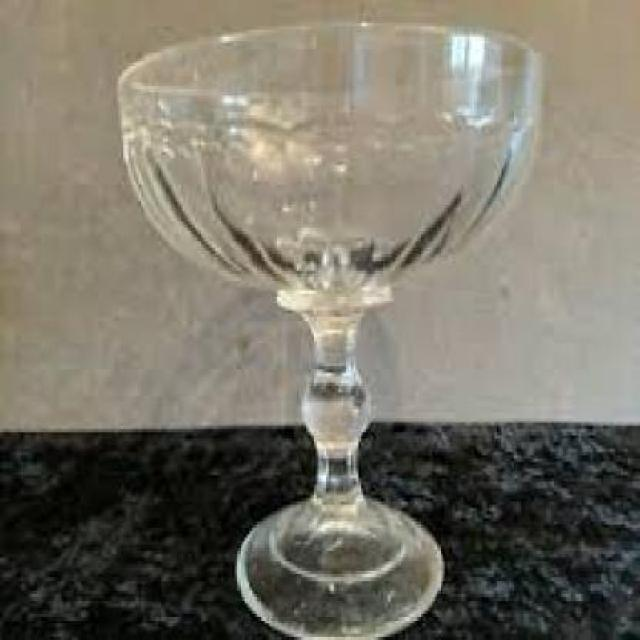kaca: (117, 20, 537, 637)
